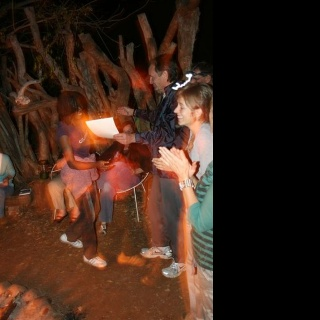without_mask: (173, 96, 194, 125), (150, 64, 166, 92)
